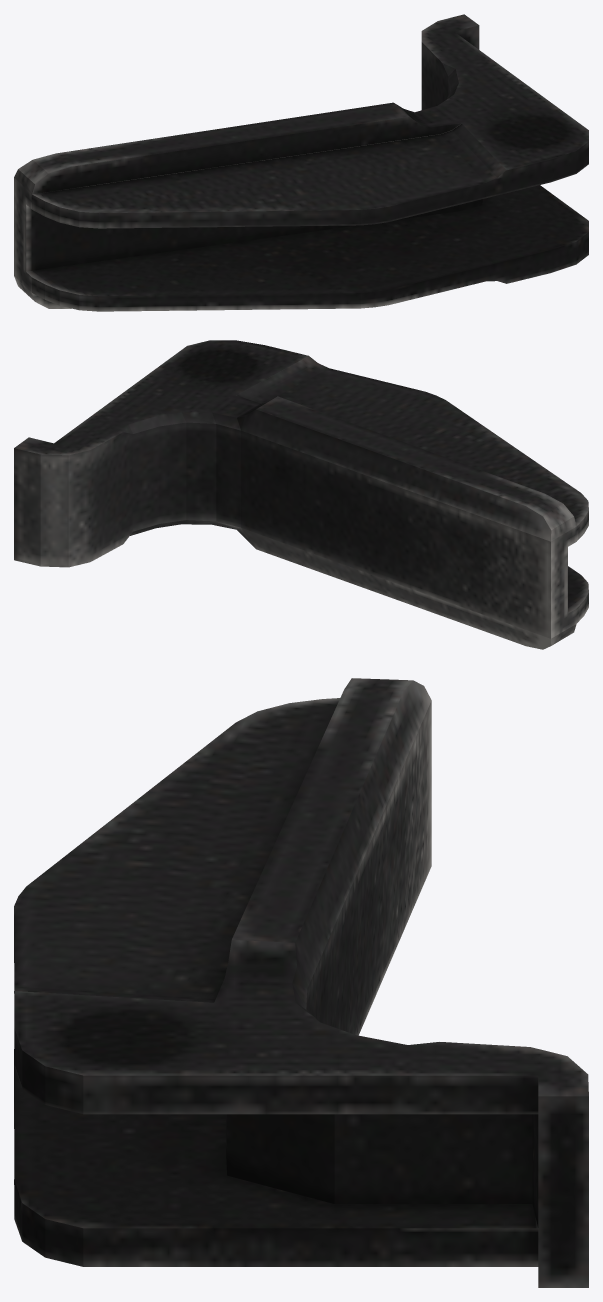
3 renders of one model, top to bottom at view 1: azimuth 30°, elevation 25°; view 2: azimuth 150°, elevation 25°; view 3: azimuth 270°, elevation 25°, orthographic. The views are drawn at different scales.
Visible parts, largest first — view 1: TW_64ca3d3954fc657e230529cc_PZ_Import; view 2: TW_64ca3d3954fc657e230529cc_PZ_Import; view 3: TW_64ca3d3954fc657e230529cc_PZ_Import.
Part boxes in pixels (left/top/right/bottom): TW_64ca3d3954fc657e230529cc_PZ_Import: left=14, top=14, right=588, bottom=311; TW_64ca3d3954fc657e230529cc_PZ_Import: left=14, top=340, right=588, bottom=649; TW_64ca3d3954fc657e230529cc_PZ_Import: left=14, top=678, right=588, bottom=1287.
Size of the model in its own units: 0.0215 by 0.0127 by 0.00583.
1 material, 1 textured.
